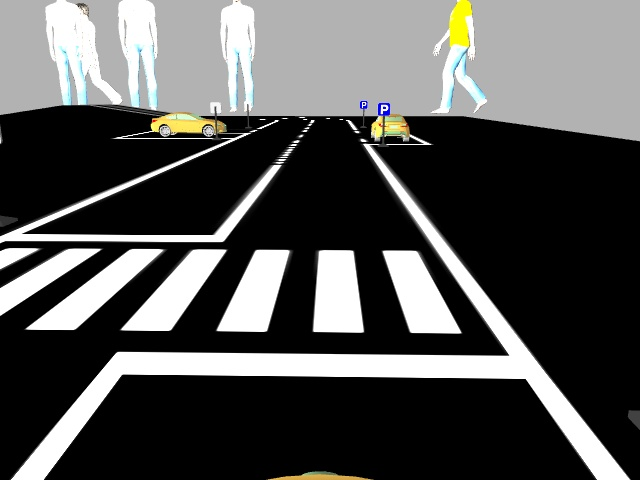Parking: (374, 101, 390, 116), (357, 97, 368, 109)
